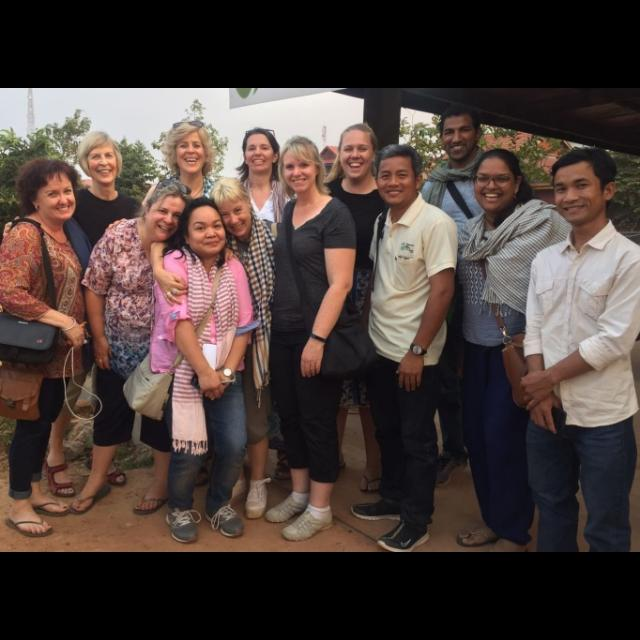head: (552, 148, 620, 224), (472, 149, 528, 215), (29, 158, 80, 224), (374, 146, 426, 208), (209, 176, 255, 240), (144, 182, 192, 242), (437, 107, 487, 163), (182, 198, 228, 256), (282, 135, 322, 195), (338, 124, 378, 182), (82, 132, 121, 184), (171, 123, 209, 175), (242, 129, 282, 173)
person: (0, 127, 158, 500), (122, 197, 255, 543), (70, 178, 202, 516), (412, 106, 524, 490), (262, 132, 362, 544), (304, 121, 408, 496), (0, 153, 90, 541), (196, 173, 294, 524), (217, 126, 315, 454), (142, 116, 235, 458)
